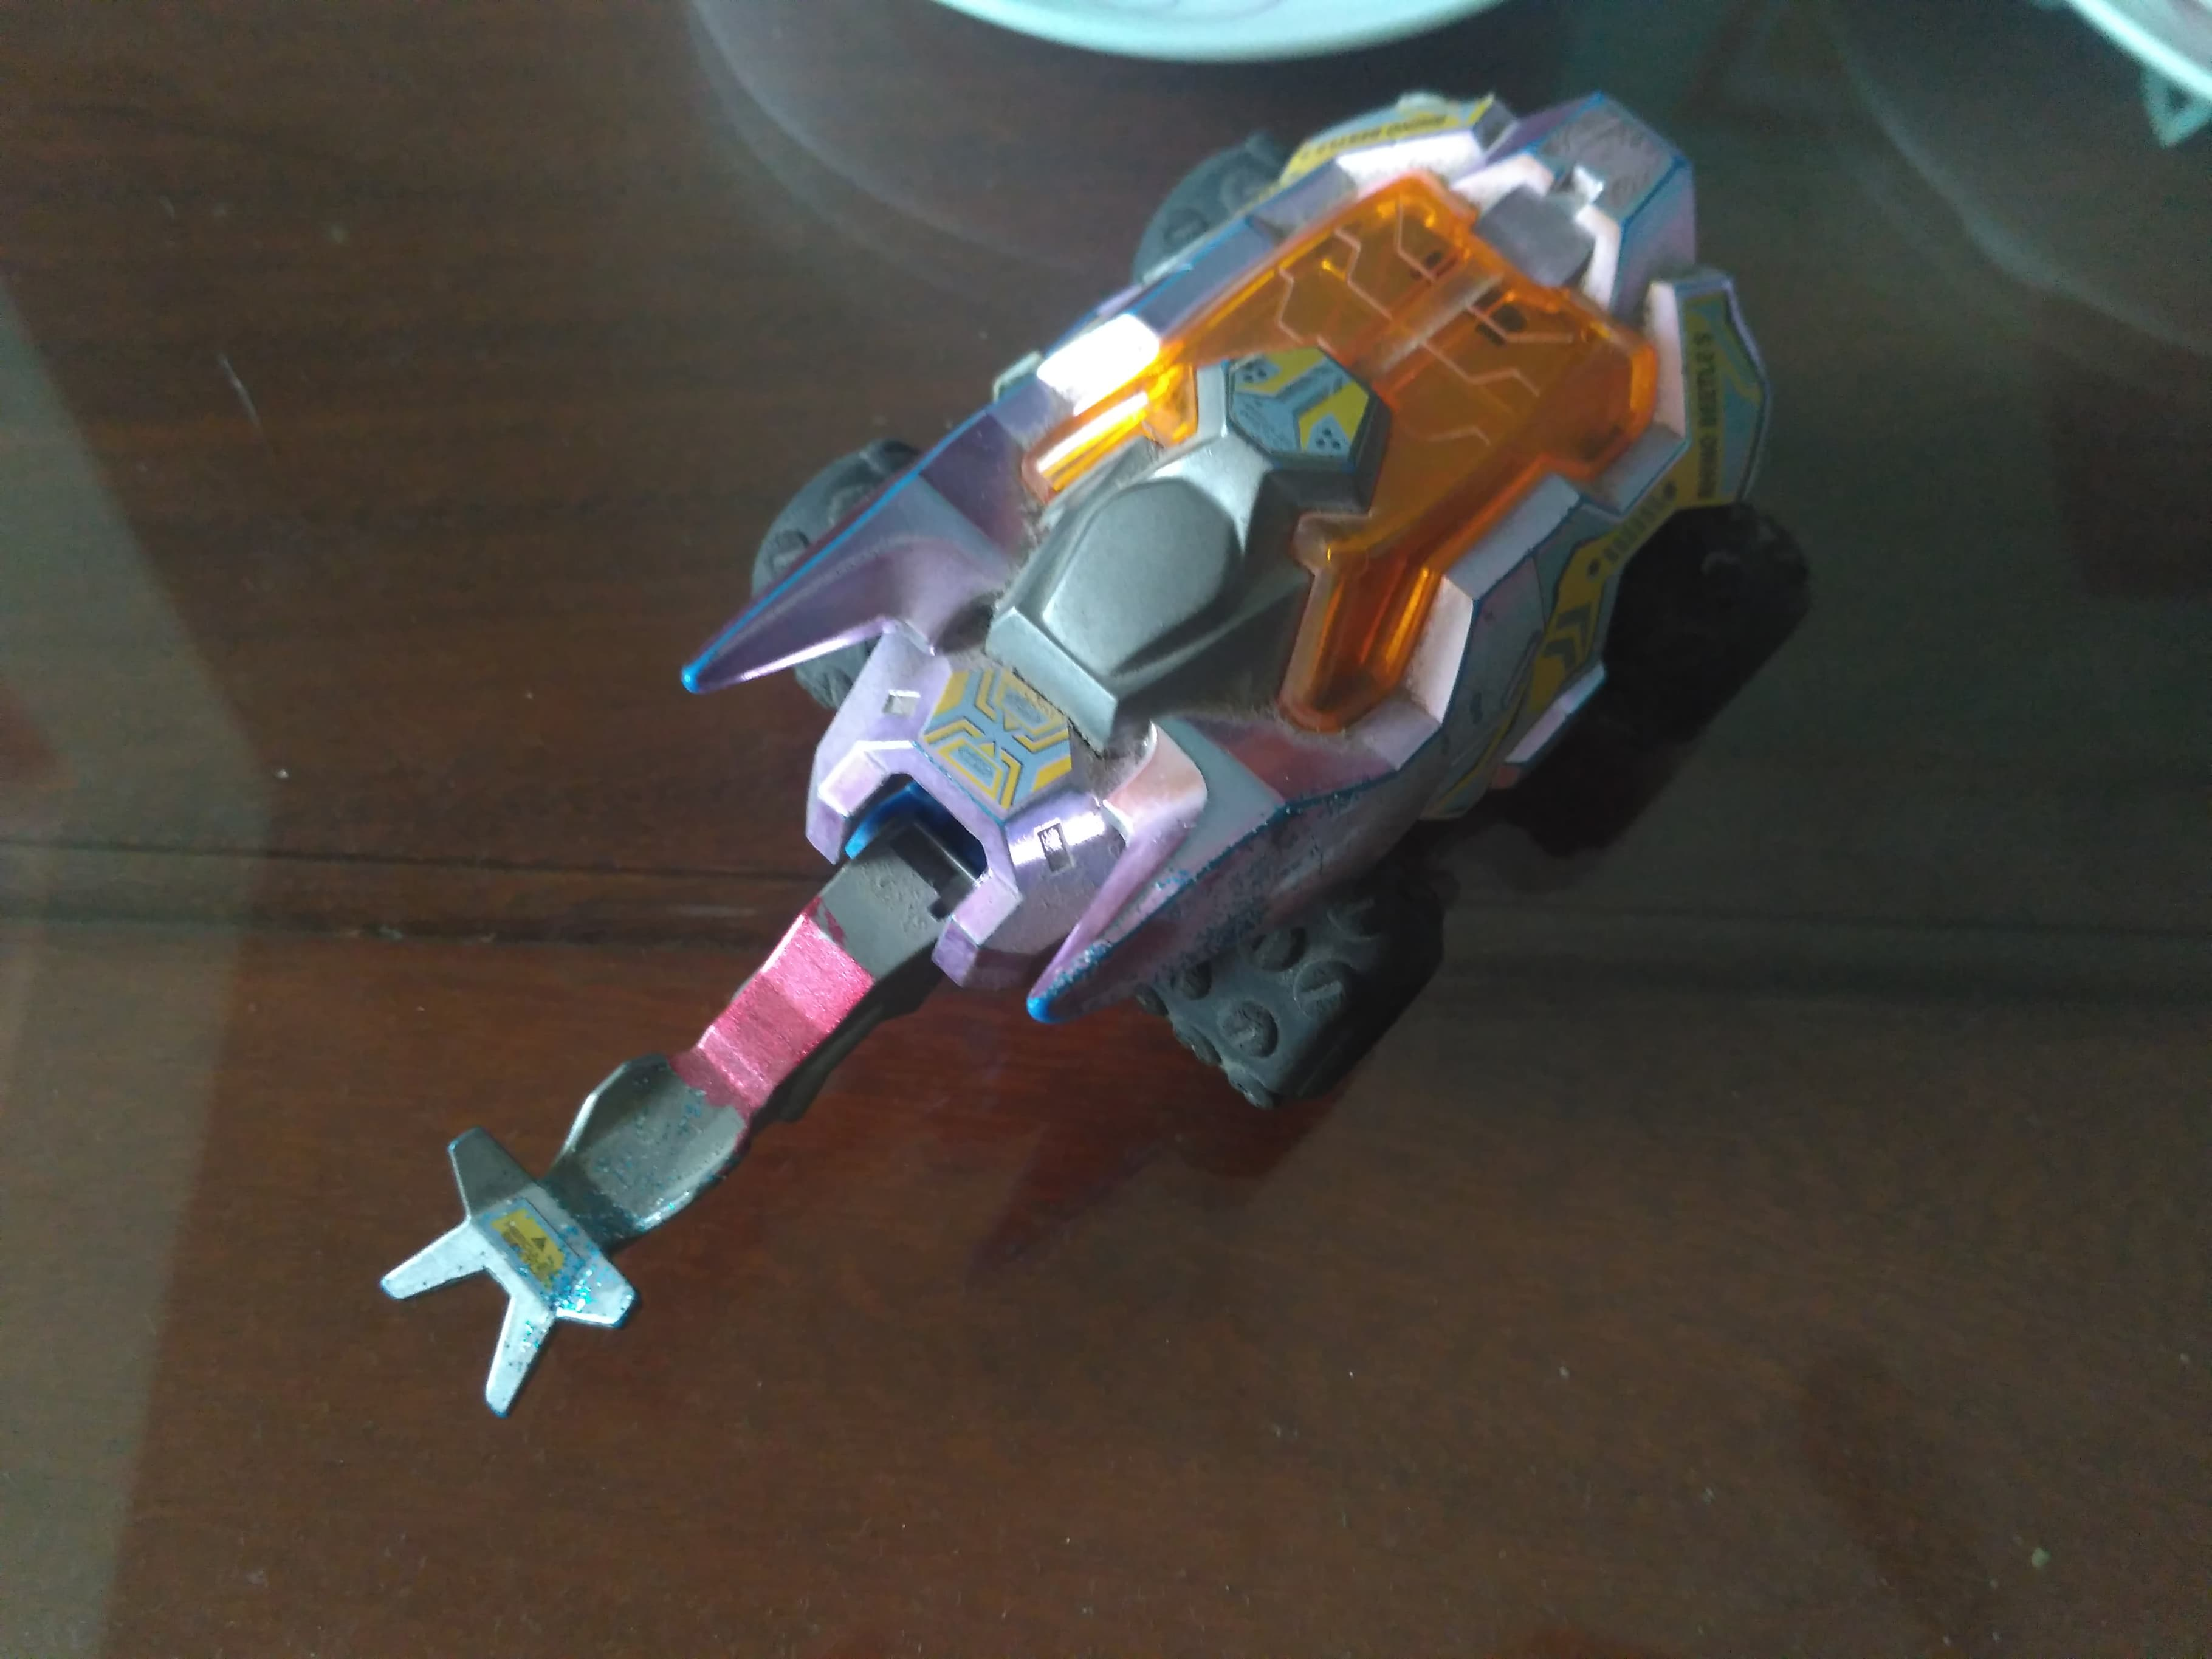rhino: (369, 75, 1813, 1436)
